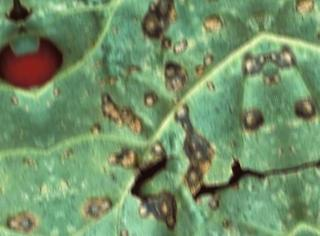Tomato leaf bacterial spot: (16, 0, 307, 236)
